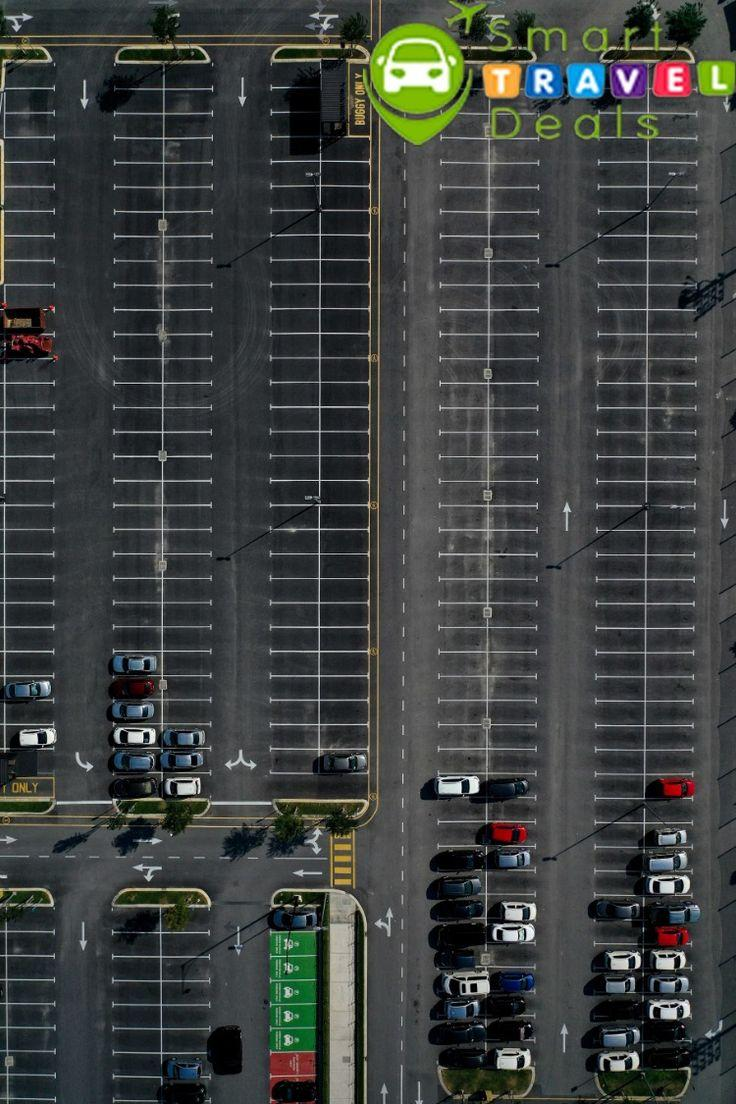car: (160, 768, 216, 803), (483, 1038, 539, 1071), (638, 992, 695, 1024), (158, 1072, 214, 1104), (1, 307, 58, 338), (591, 940, 646, 972), (641, 771, 697, 801), (486, 770, 540, 801), (484, 817, 539, 847), (592, 892, 647, 922), (437, 842, 490, 873), (161, 1049, 212, 1081), (1, 331, 59, 359), (644, 894, 700, 923), (641, 944, 697, 973), (639, 967, 695, 996), (434, 867, 488, 897), (485, 892, 539, 922), (111, 745, 163, 776), (160, 747, 215, 776), (483, 1015, 539, 1043), (3, 723, 57, 752), (642, 820, 694, 850), (638, 1020, 695, 1047), (162, 722, 215, 751), (485, 843, 538, 872), (594, 996, 647, 1025), (595, 1022, 648, 1051), (110, 772, 166, 799), (434, 894, 490, 921), (642, 871, 697, 898), (485, 992, 538, 1020), (488, 965, 539, 994), (435, 771, 489, 798), (484, 918, 538, 945), (595, 1046, 647, 1074), (110, 650, 163, 677), (644, 847, 695, 875), (3, 674, 57, 700), (108, 724, 164, 749), (317, 749, 373, 774), (443, 967, 493, 995), (111, 699, 164, 725), (643, 921, 696, 947), (441, 1040, 488, 1069), (113, 674, 163, 701), (438, 944, 489, 970), (641, 1045, 692, 1071), (594, 971, 647, 996), (441, 1017, 490, 1044), (437, 922, 488, 947), (445, 995, 490, 1021)
